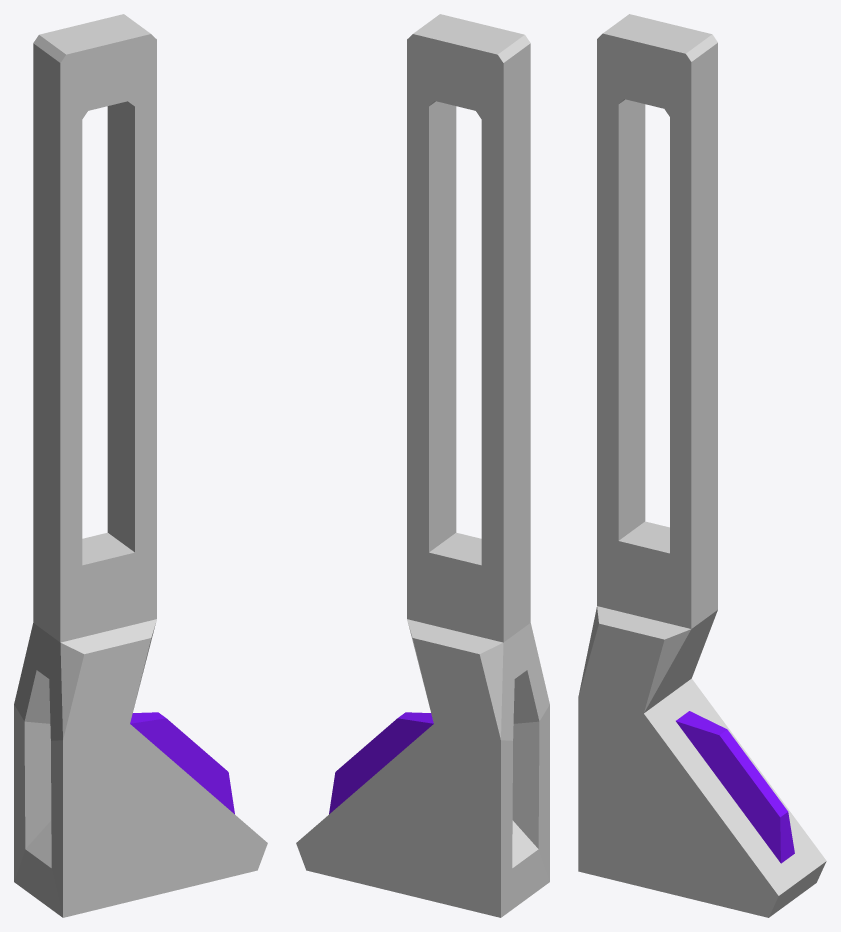
The model's file is FenceCrystalPillar00.fbx.
The picture shows the model from 3 angles, left to right: view 1: azimuth 30°, elevation 25°; view 2: azimuth 150°, elevation 25°; view 3: azimuth 330°, elevation 25°; orthographic projection. The views are drawn at different scales.
Parts seen in each view (by area): view 1: FenceCrystalPillar00; view 2: FenceCrystalPillar00; view 3: FenceCrystalPillar00.
Boxes of the visible parts, left/top/right/bottom form: FenceCrystalPillar00: left=14, top=14, right=267, bottom=917; FenceCrystalPillar00: left=296, top=14, right=549, bottom=917; FenceCrystalPillar00: left=578, top=14, right=826, bottom=917.
Bounding box in the file's own units: 12.11 × 47.93 × 5.
